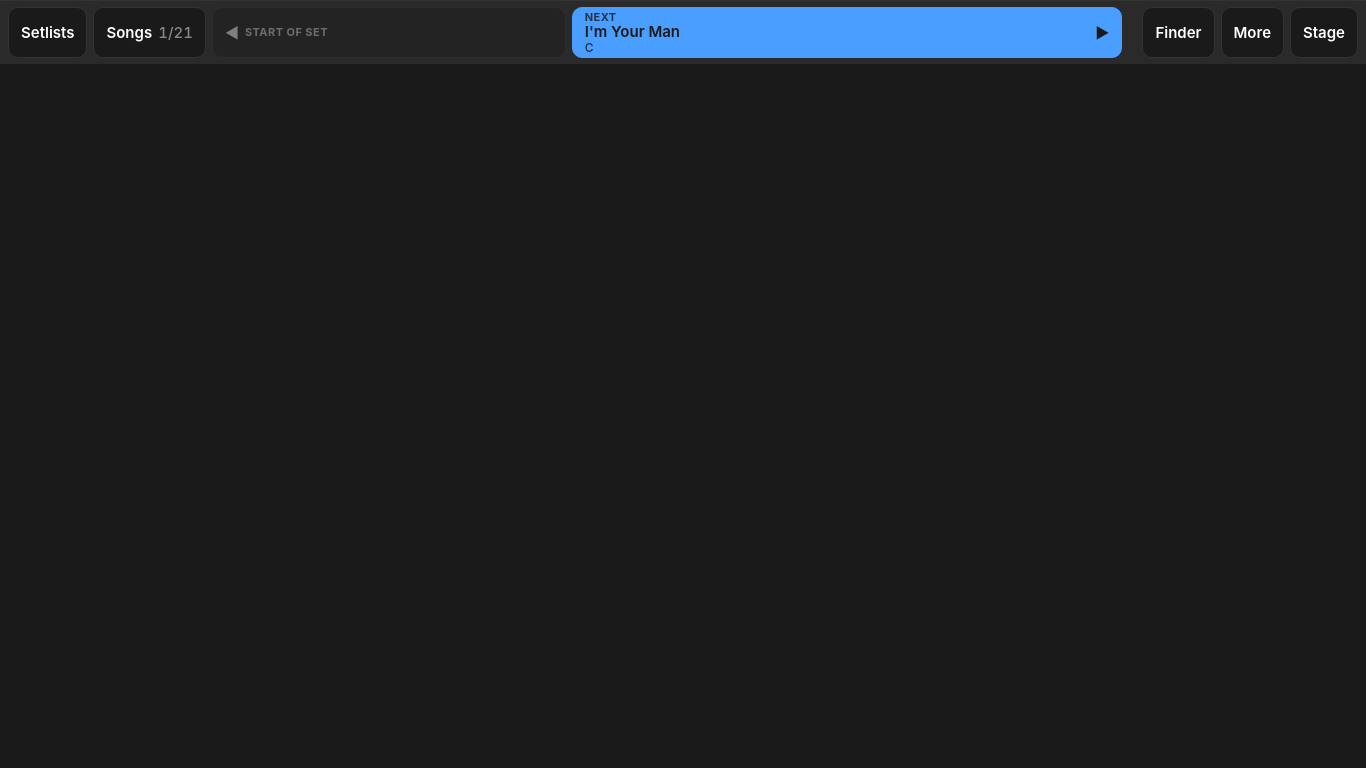
Test: the keyboard view › leaves the GX-10 preset off the song list and the Next button
Click the button with aria-label "Songs, ": (150,32) [94,7,206,58]
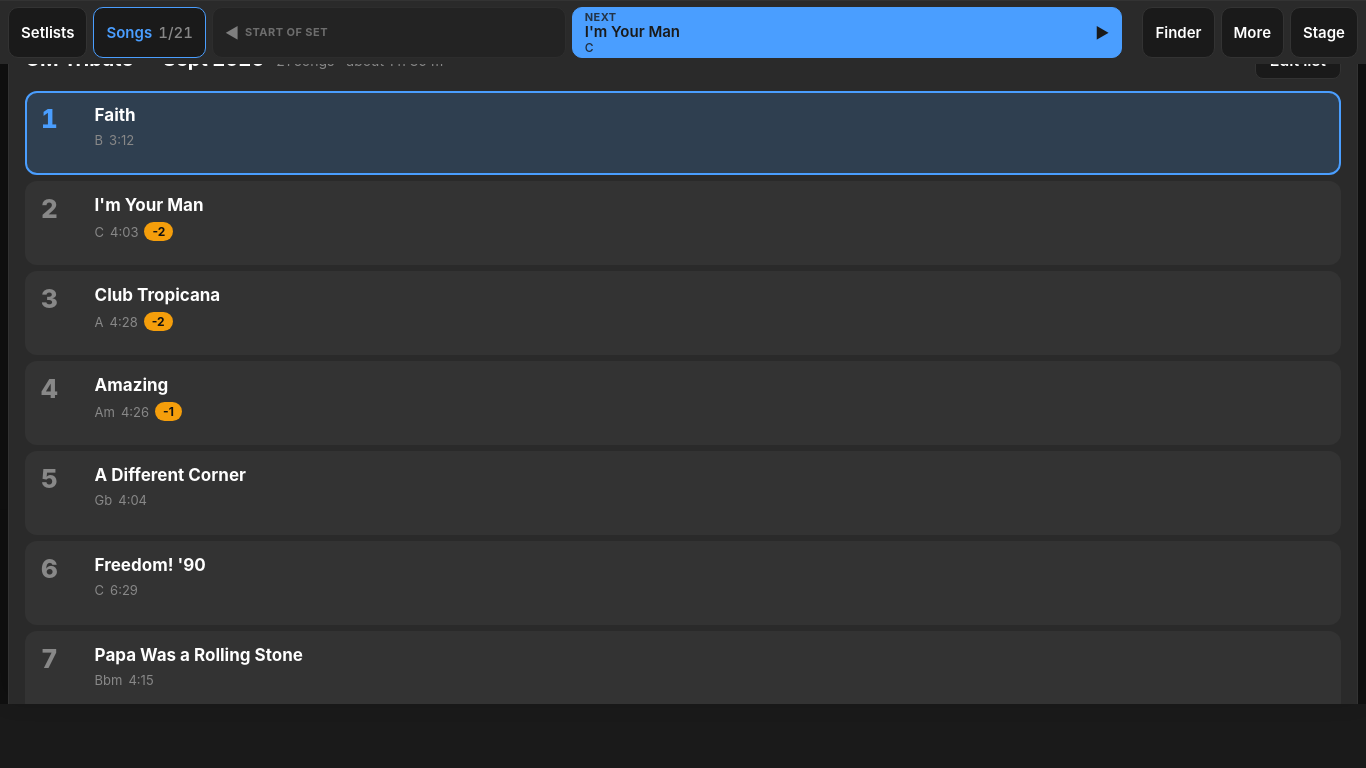
Expected: the text "Faith" is shown, [95,105,136,125]
